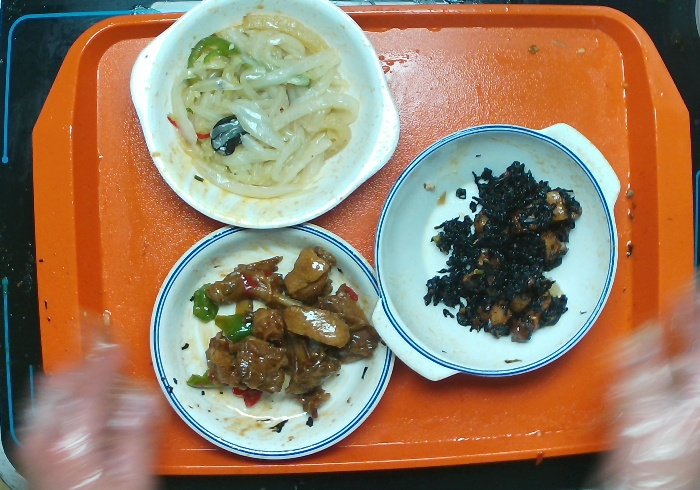HZYJPL-Dai_Er_Bai_Yuan_Wan: (128, 1, 401, 230)
HZYJPL-Lan_Bian_Dai_Er_Wan: (368, 121, 621, 383)
HZYJPL-Lan_Bian_Yuan_Die: (147, 221, 397, 461)
